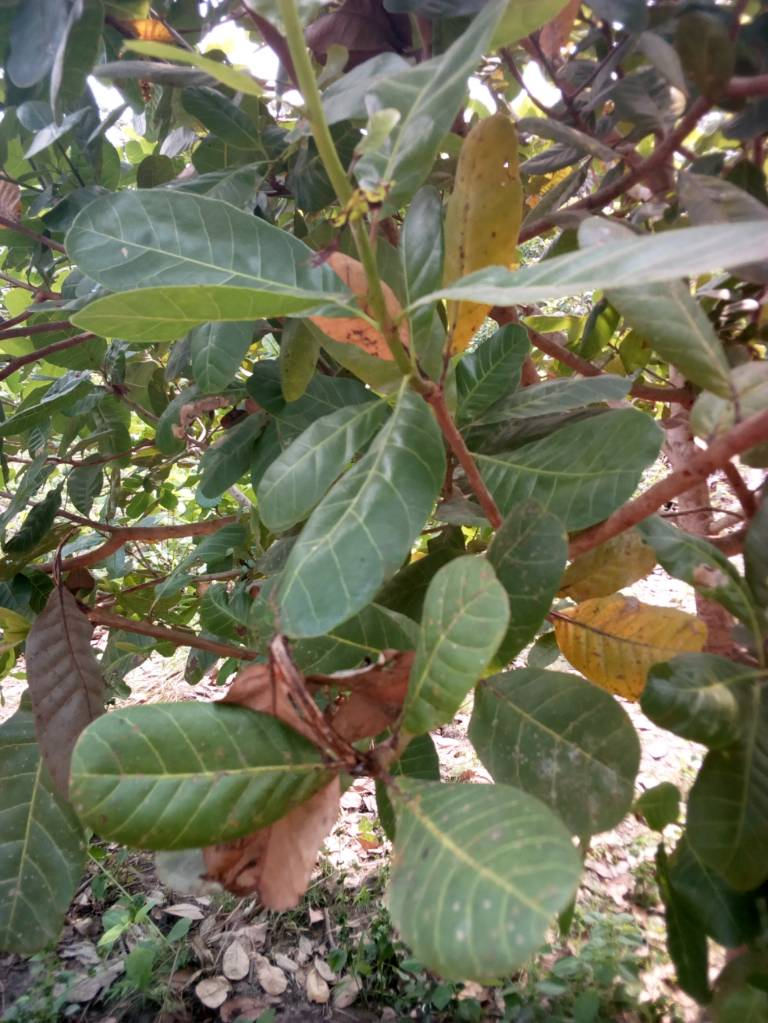Oidium: (464, 664, 672, 825)
